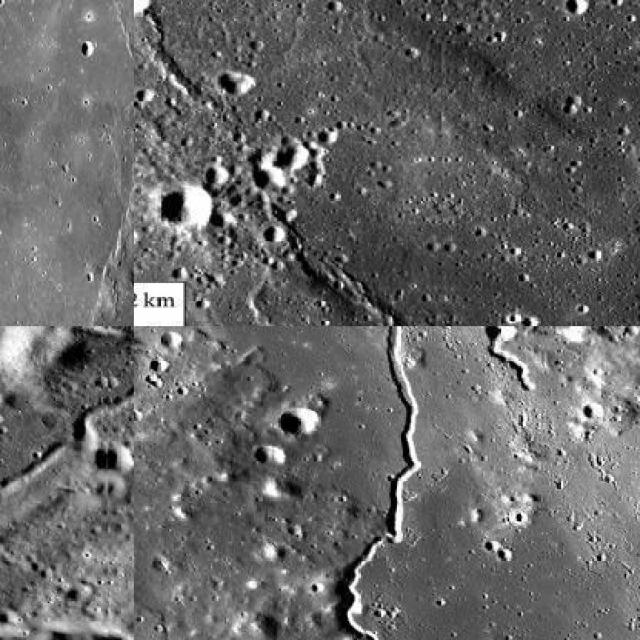rille: (0, 0, 132, 324), (0, 347, 132, 638), (332, 326, 425, 639), (340, 326, 538, 392), (280, 0, 386, 55)
